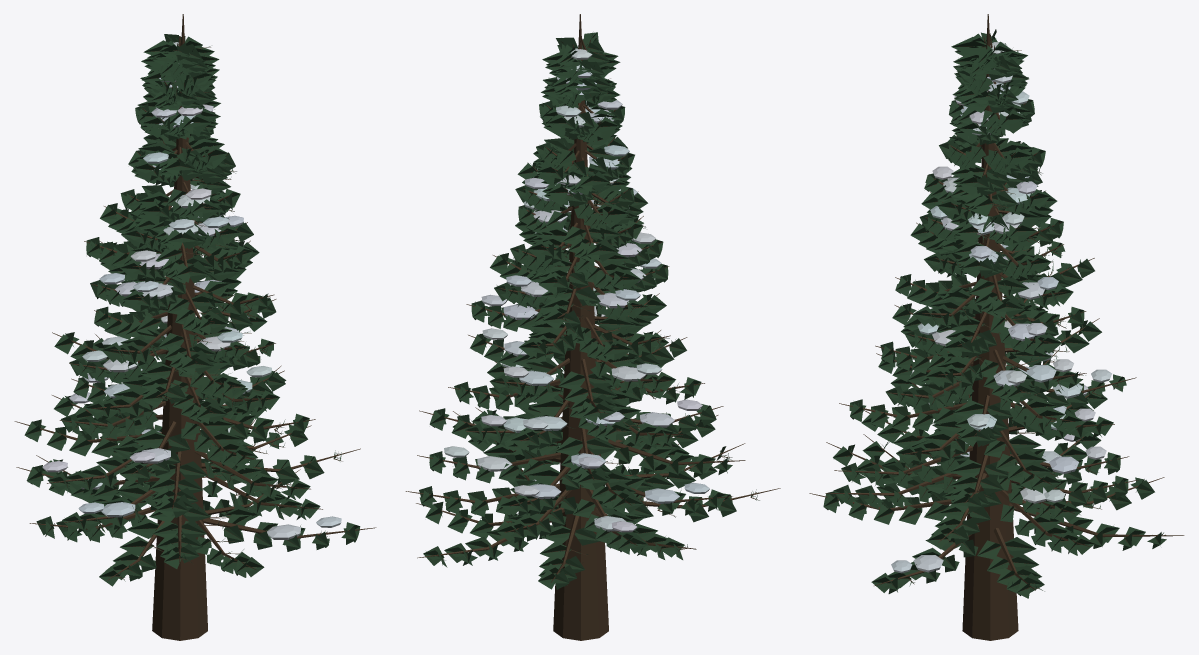
Rendered from pc_spruce_2_lod0.glb.
3 views of the same model, side by side, from view 1: azimuth 30°, elevation 25°; view 2: azimuth 150°, elevation 25°; view 3: azimuth 270°, elevation 25° (orthographic).
Visible parts, largest first — view 1: pc_spruce_2_lod0; view 2: pc_spruce_2_lod0; view 3: pc_spruce_2_lod0.
Boxes of the visible parts, x1,y1,x2,y2 form: pc_spruce_2_lod0: [14, 14, 376, 640]; pc_spruce_2_lod0: [405, 14, 780, 640]; pc_spruce_2_lod0: [809, 14, 1184, 640].
Bounding box in the file's own units: 5.43 × 10.5 × 5.8.
